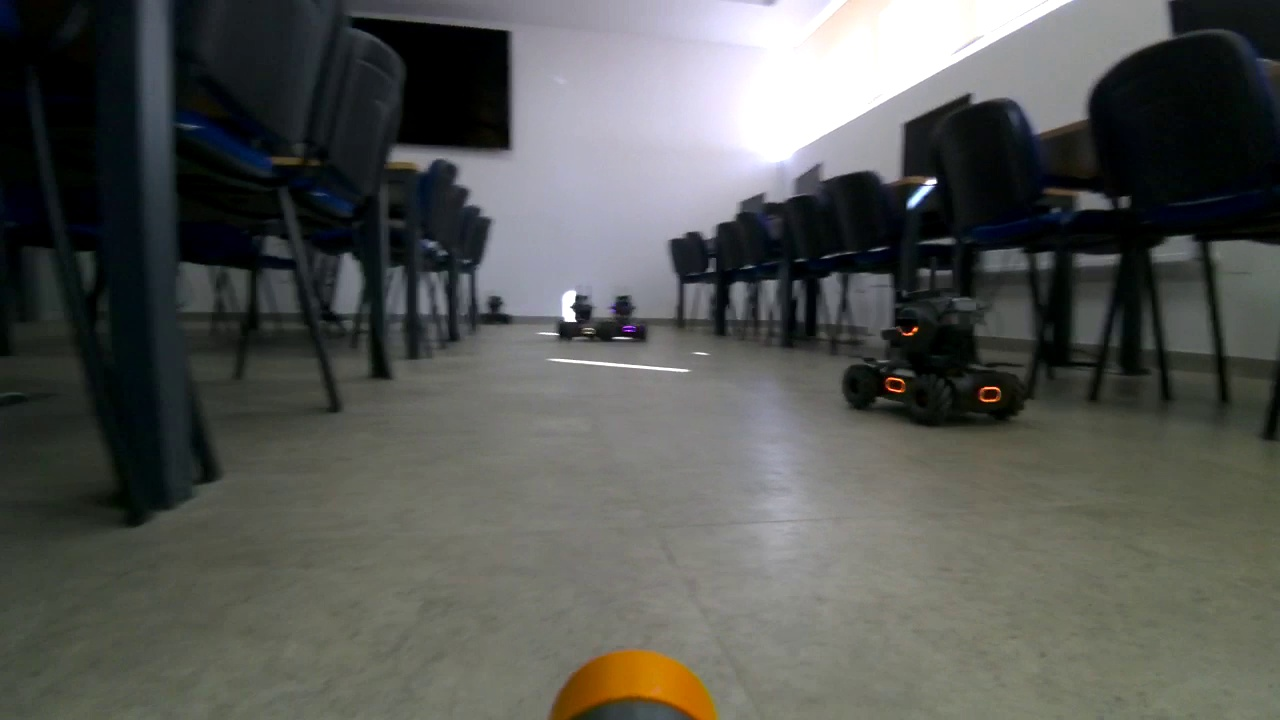robot: (839, 287, 1029, 416), (611, 296, 661, 341), (563, 293, 604, 342)
